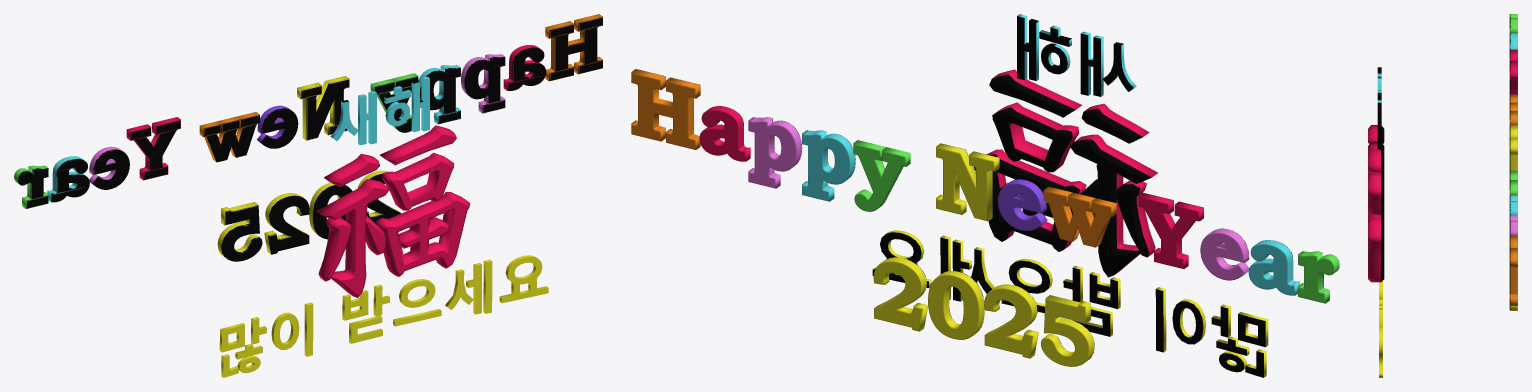
3 renders of one model, left to right at view 1: azimuth 30°, elevation 25°; view 2: azimuth 150°, elevation 25°; view 3: azimuth 270°, elevation 25°, orthographic. The views are drawn at different scales.
Visible parts, largest first — view 1: HNY, pok, mani, sehea; view 2: HNY, pok, mani, sehea; view 3: HNY, pok, sehea, mani.
Boxes of the visible parts, x1,y1,x2,y2 form: HNY: (14, 14, 602, 261); pok: (316, 125, 470, 297); mani: (219, 255, 548, 377); sehea: (330, 76, 429, 145); HNY: (631, 69, 1339, 366); pok: (974, 69, 1157, 277); mani: (872, 230, 1268, 377); sehea: (1017, 14, 1136, 96); HNY: (1509, 14, 1517, 310); pok: (1368, 125, 1384, 282); sehea: (1377, 67, 1381, 149); mani: (1379, 281, 1382, 377).
Bounding box in the file's own units: 9.22 × 3.78 × 2.25.
